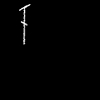double_crochet: (20, 4, 29, 43)
